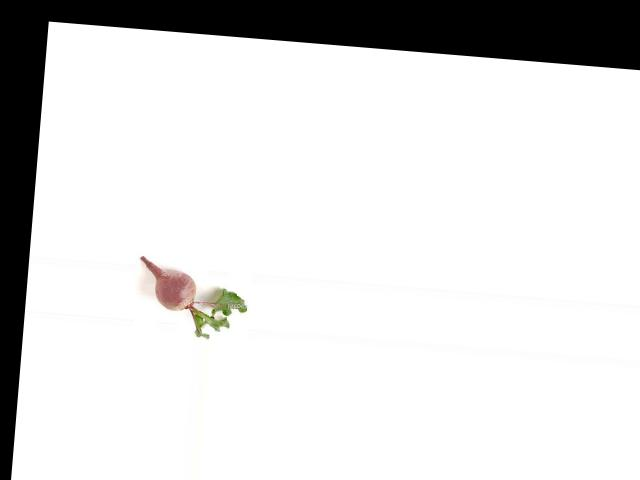beet: (135, 256, 251, 341)
